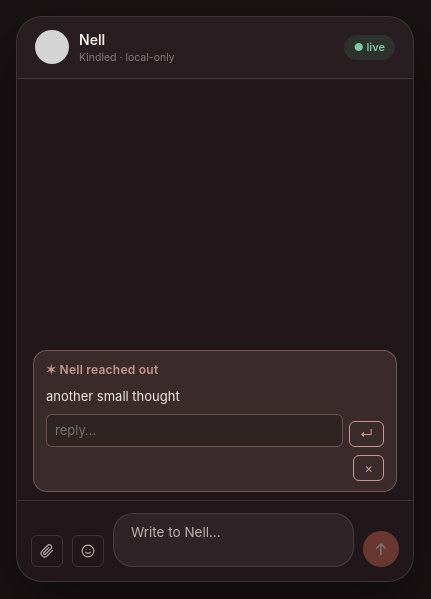
Scenario: ChatPanel — initiate banner integration (Task 26) › removes the banner and posts dismissed when the close button is clicked
The image size is (431, 599).
Expected: the text "another small thought" is shown, top-left (46, 388), bottom-right (180, 404)
Step 1. Click the button named "dismiss" → click(369, 468), box top-left (353, 455), bottom-right (384, 481)
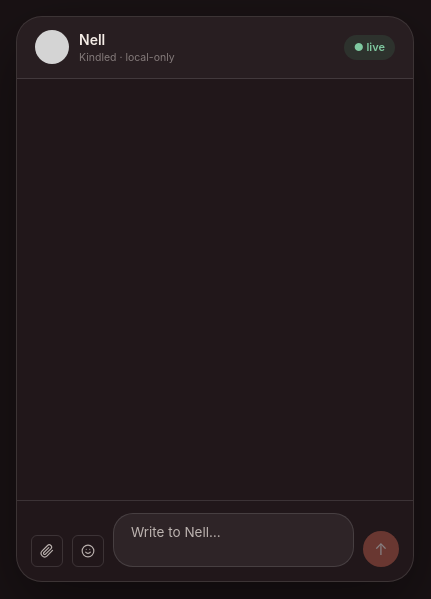
Expected: the text "another small thought" is gone
